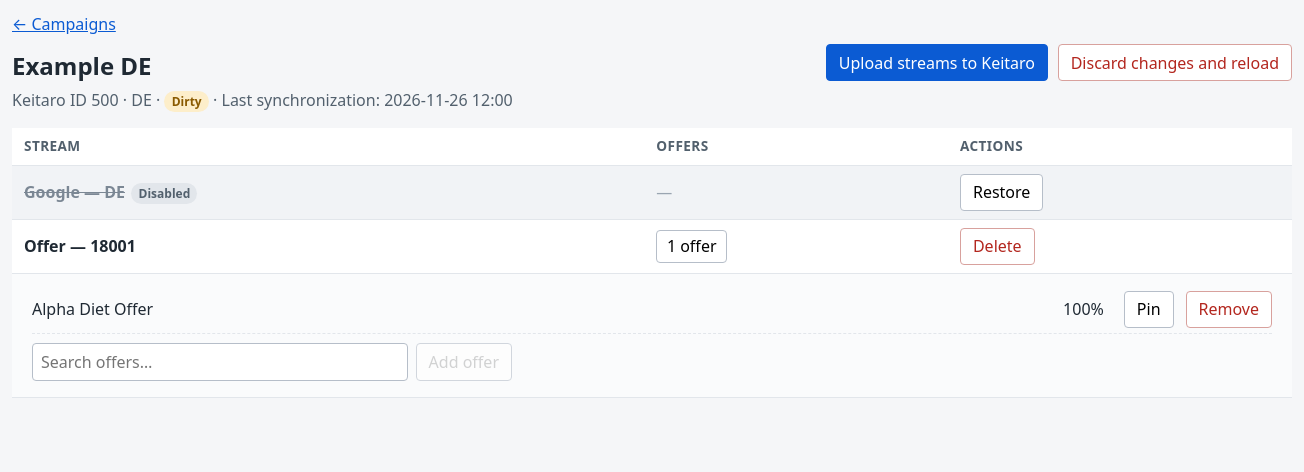
Scenario: CampaignEditorPage — fetch, discard, and conflicts › reports a failed upload whose rollback succeeded and keeps the draft dirty
Click the button "Upload streams to Keitaro": coordinates (937, 63) [826, 44, 1048, 81]
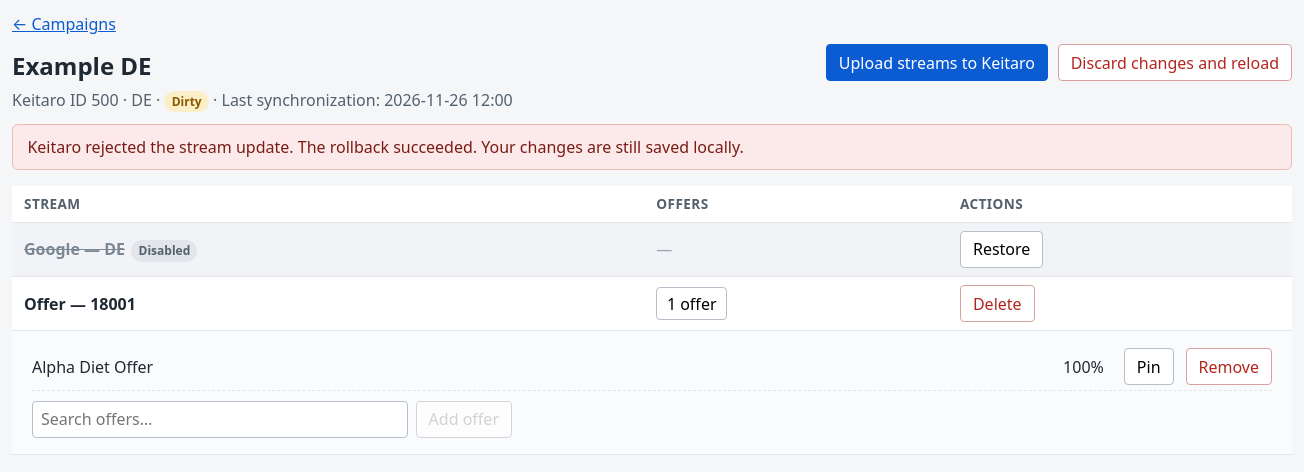
Check: the text "still saved locally" is shown, box [27, 136, 744, 158]
